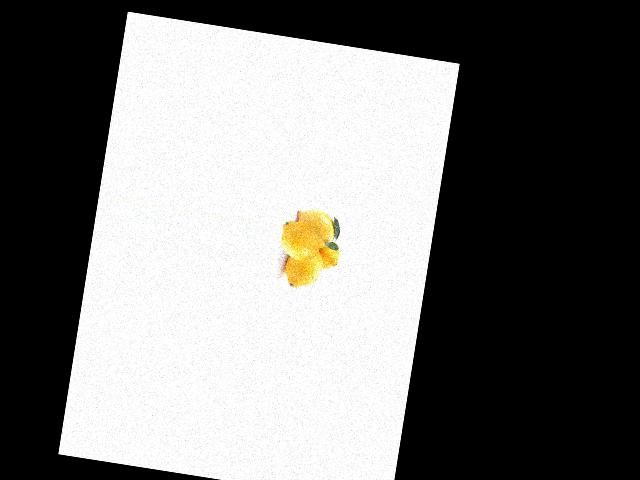lemon: (286, 245, 325, 293)
